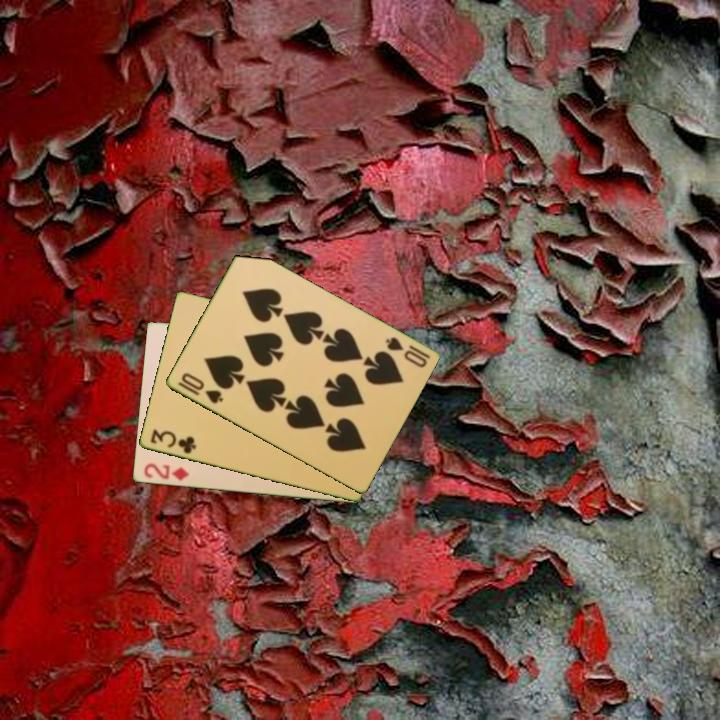10s: (174, 369, 226, 407), (381, 333, 433, 371)
2d: (140, 460, 191, 484)
3c: (147, 426, 199, 457)
